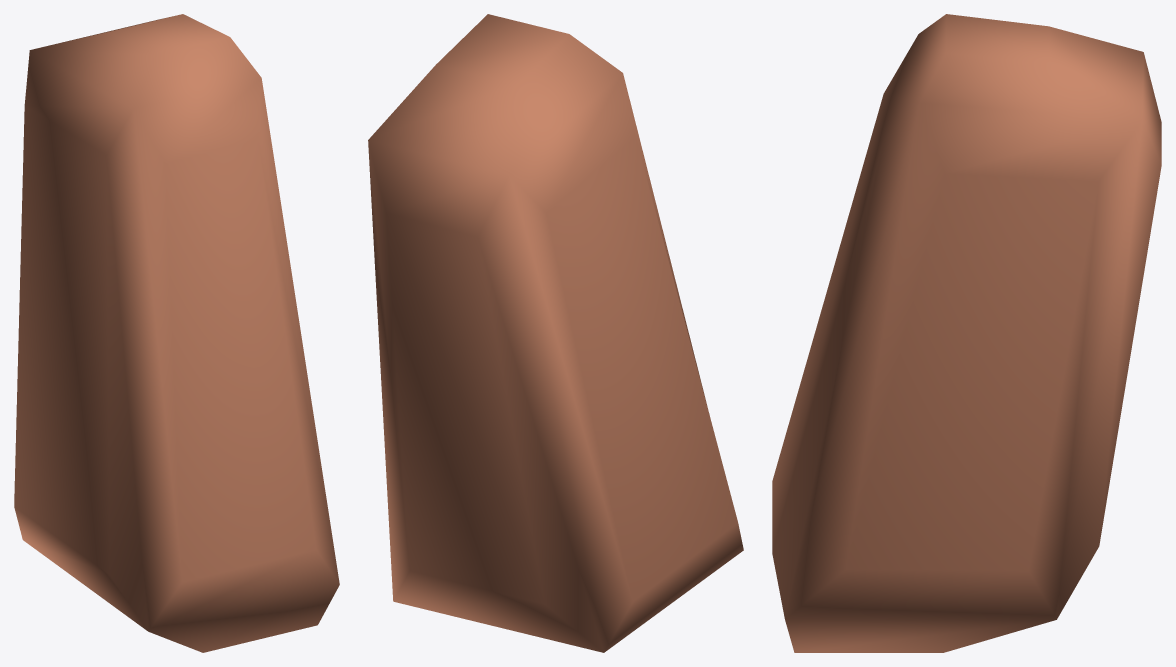
File: StoneStructure_4.fbx
The picture shows the model from 3 angles, left to right: view 1: azimuth 30°, elevation 25°; view 2: azimuth 150°, elevation 25°; view 3: azimuth 270°, elevation 25°; orthographic projection. The views are drawn at different scales.
Parts seen in each view (by area): view 1: Cube; view 2: Cube; view 3: Cube.
Boxes of the visible parts, x1=… form: Cube: x1=14, y1=14, x2=339, y2=652; Cube: x1=368, y1=14, x2=743, y2=652; Cube: x1=772, y1=14, x2=1161, y2=652.
Bounding box in the file's own units: 626 × 1440 × 862.
